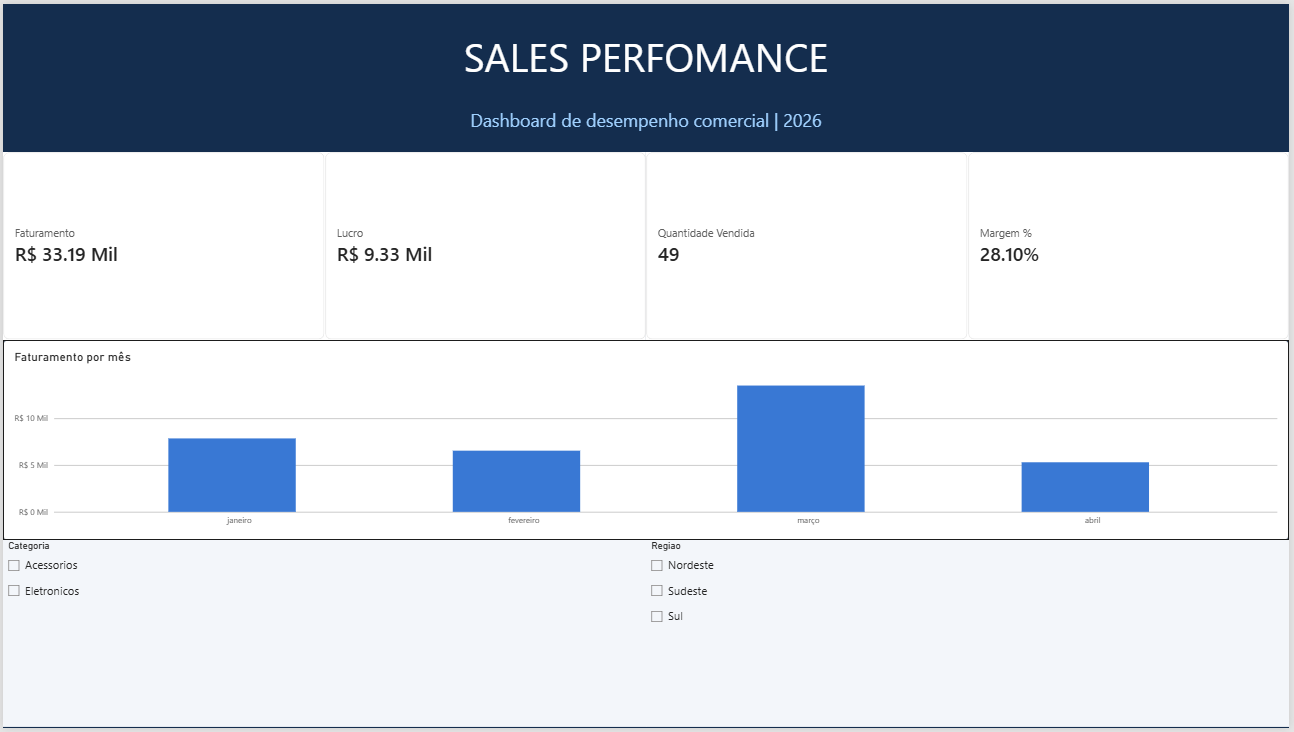

This screenshot's page, from the dashboard's own definition file:
{"tool":"powerbi","page":{"name":"Página 1","canvas":[1920,1080],"ordinal":0},"visuals":[{"type":"cardVisual","fields":{"Data":["Vendas.Faturamento"]},"box":[0,220.9,480.6,280.6],"z":0},{"type":"cardVisual","fields":{"Data":["Vendas.Lucro"]},"box":[480.6,220.9,479.1,280.6],"z":1},{"type":"cardVisual","fields":{"Data":["Vendas.Quantidade Vendida"]},"box":[959.7,220.9,480.6,280.6],"z":2},{"type":"cardVisual","fields":{"Data":["Vendas.Margem %"]},"box":[1440.3,220.9,479.1,280.6],"z":3},{"type":"lineClusteredColumnComboChart","title":"Faturamento por mês","fields":{"Category":["Vendas.Data.Variação.Hierarquia de datas.Mês"],"Y":["Vendas.Faturamento"]},"box":[0,501.5,1919.4,298.5],"z":4},{"type":"slicer","fields":{"Values":["Vendas.Categoria"]},"box":[0,800,959.7,279.1],"z":5},{"type":"slicer","fields":{"Values":["Vendas.Regiao"]},"box":[959.7,800,959.7,279.1],"z":6},{"type":"textbox","box":[0,0,1919.4,220.9],"z":7}]}

Visuals, with their boxes in screenshot pixels (x1, y1, x2, y2), scaled from the page's 1920x1080 canvas onto the 1294x732 screenshot:
cardVisual - Vendas.Faturamento: (x1=0, y1=150, x2=324, y2=340)
cardVisual - Vendas.Lucro: (x1=324, y1=150, x2=647, y2=340)
cardVisual - Vendas.Quantidade Vendida: (x1=647, y1=150, x2=971, y2=340)
cardVisual - Vendas.Margem %: (x1=971, y1=150, x2=1293, y2=340)
"Faturamento por mês" lineClusteredColumnComboChart: (x1=0, y1=340, x2=1293, y2=542)
slicer - Vendas.Categoria: (x1=0, y1=542, x2=647, y2=731)
slicer - Vendas.Regiao: (x1=647, y1=542, x2=1293, y2=731)
textbox: (x1=0, y1=0, x2=1293, y2=150)
